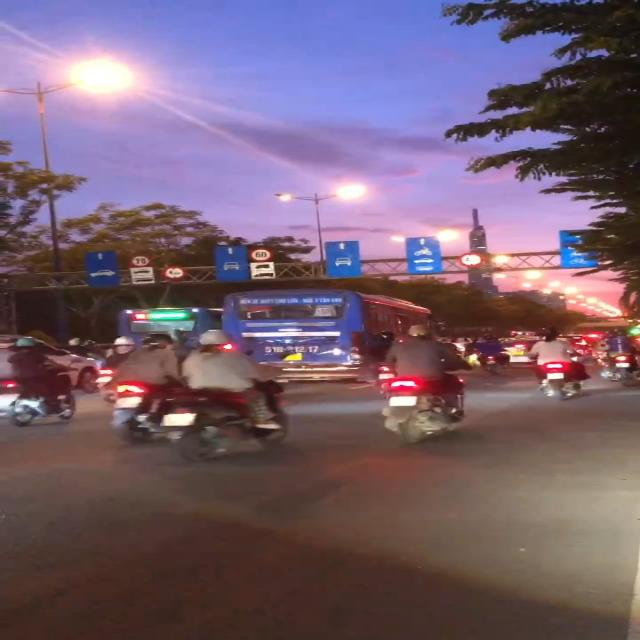Bien bao toc do toi da cho phep: (247, 246, 273, 262), (124, 255, 150, 269)
